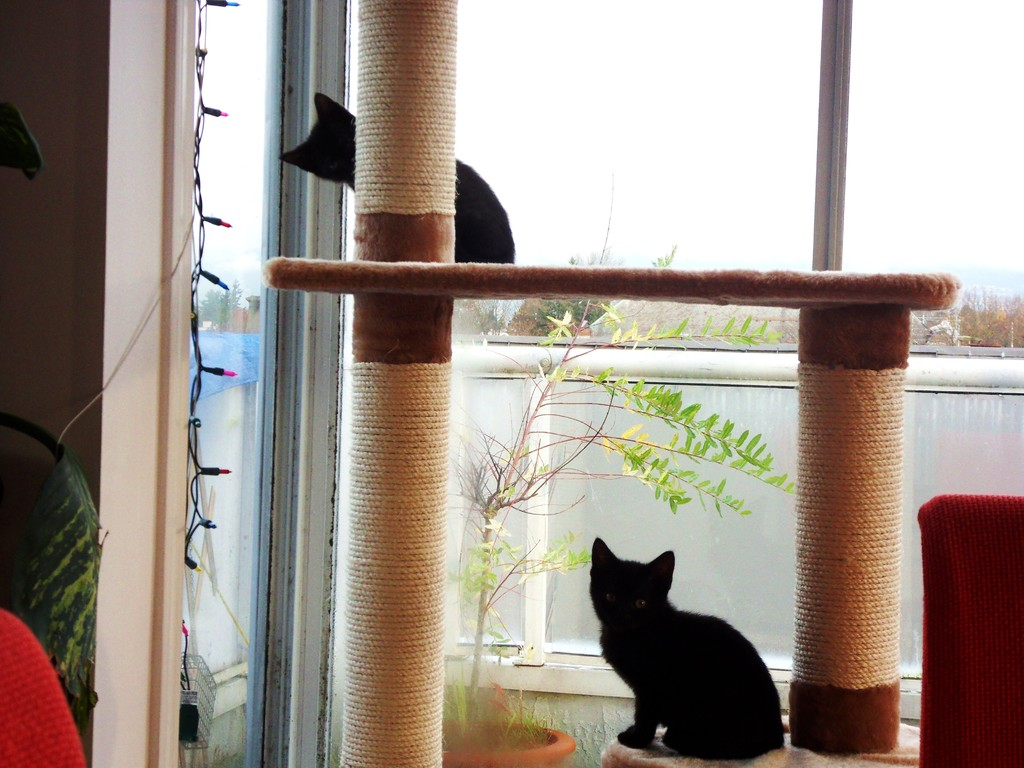Window: (343, 5, 1023, 695)
